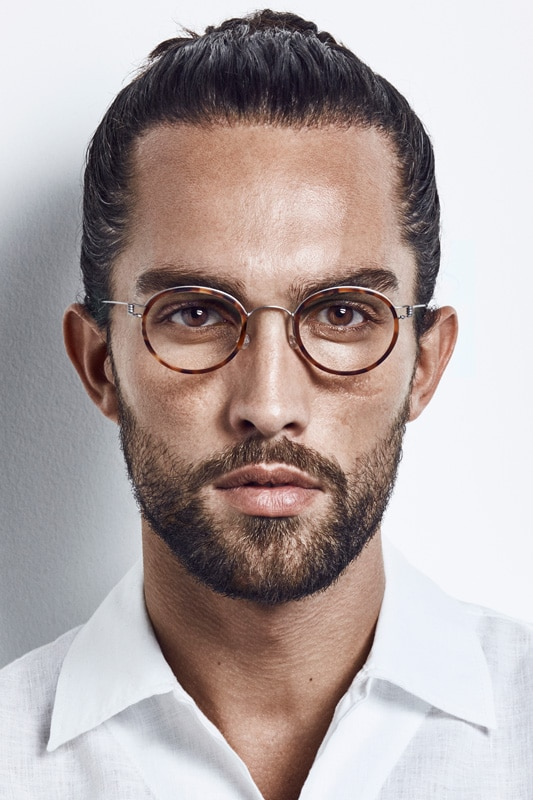llen: (297, 291, 395, 372)
rlen: (144, 291, 243, 371)
